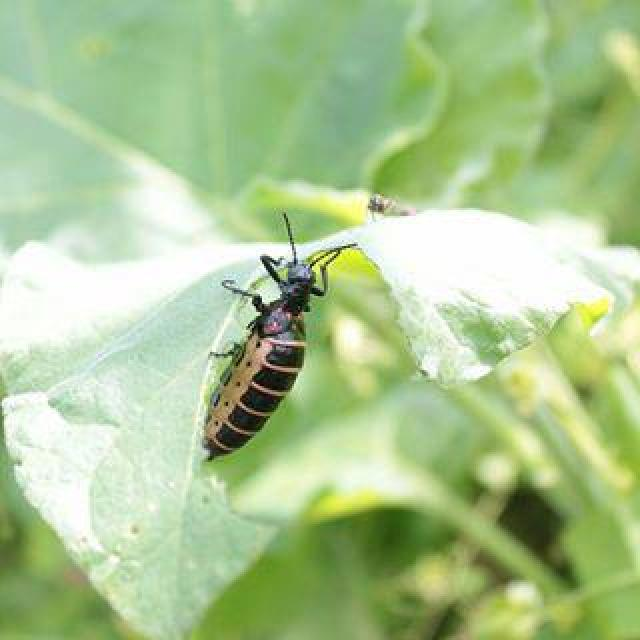BlisterBeetle-Adult-: (186, 192, 357, 472)
